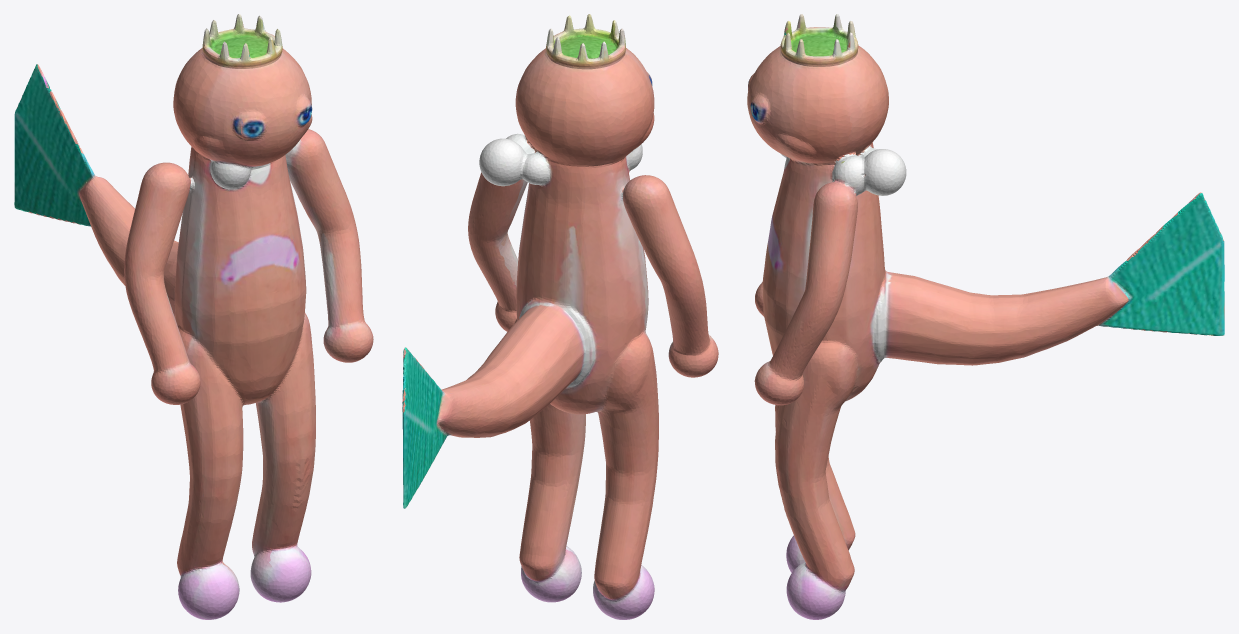
Rendered from creature-055.glb.
The picture shows the model from 3 angles, left to right: view 1: azimuth 30°, elevation 25°; view 2: azimuth 150°, elevation 25°; view 3: azimuth 270°, elevation 25°; orthographic projection.
Parts seen in each view (by area): view 1: tmp14mbmlr1.ply; view 2: tmp14mbmlr1.ply; view 3: tmp14mbmlr1.ply.
Boxes of the visible parts, x1,y1,x2,y2 form: tmp14mbmlr1.ply: (14, 14, 373, 619); tmp14mbmlr1.ply: (402, 14, 718, 619); tmp14mbmlr1.ply: (747, 14, 1224, 619).
Bounding box in the file's own units: 0.8189 × 1.99 × 1.5.
1 material, 1 textured.
